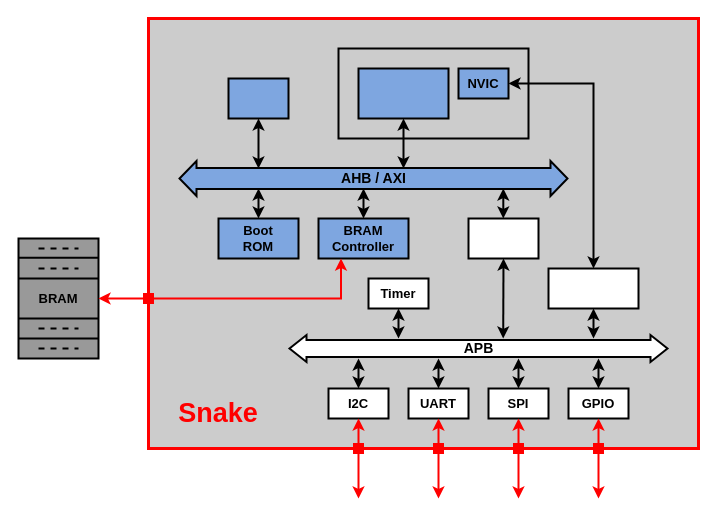
This 717x526 diagram has some shape labels left out. Each missing label, with the centre of its shape:
"APB Bridge" belongs at pixel 503 238.
"DMA" belongs at pixel 258 98.
"Interrupt Controller" belongs at pixel 593 288.
"RISC-V Core" belongs at pixel 403 93.
